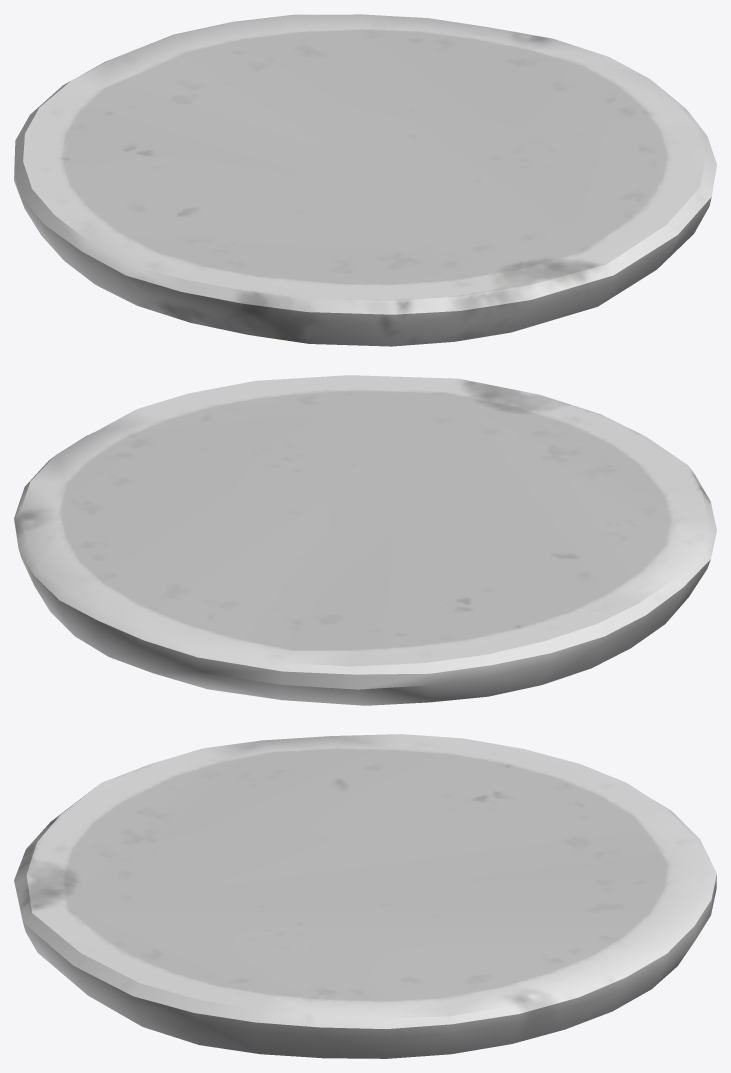
File: StationInterior_Ceiling.fbx
The picture shows the model from 3 angles, top to bottom: view 1: azimuth 30°, elevation 25°; view 2: azimuth 150°, elevation 25°; view 3: azimuth 270°, elevation 25°; orthographic projection.
Parts seen in each view (by area): view 1: Station_DomeTop; view 2: Station_DomeTop; view 3: Station_DomeTop.
Part boxes in pixels (x1,y1,x2,y2): Station_DomeTop: (14,14,716,346); Station_DomeTop: (14,375,716,705); Station_DomeTop: (14,734,716,1058).
Bounding box in the file's own units: 21.07 × 1.75 × 21.55.
